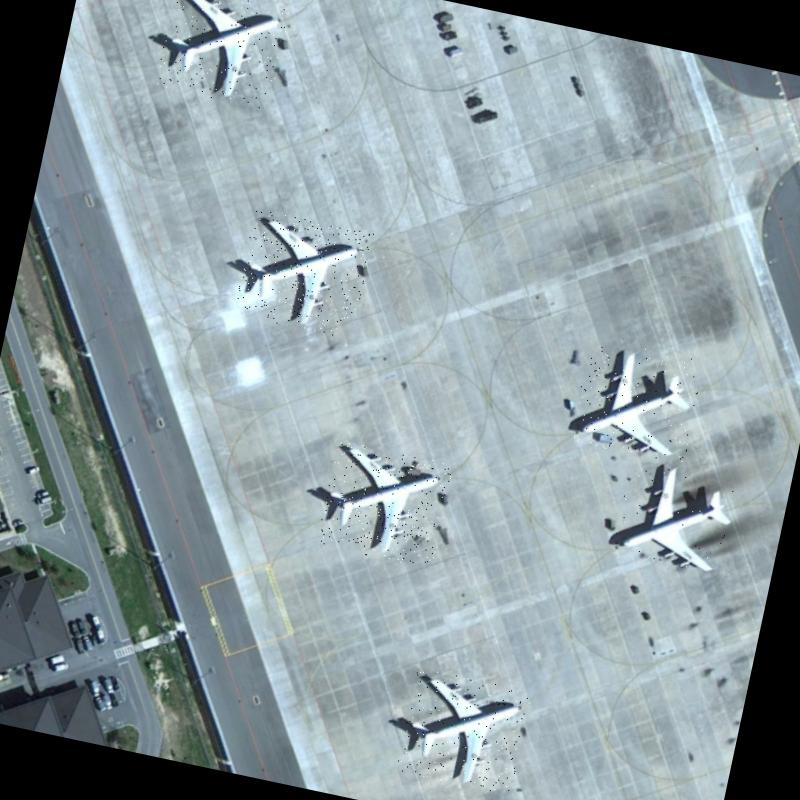A11: (233, 208, 374, 340), (316, 440, 455, 570), (568, 337, 706, 466), (396, 668, 532, 796), (610, 453, 742, 578), (155, 0, 291, 110)
